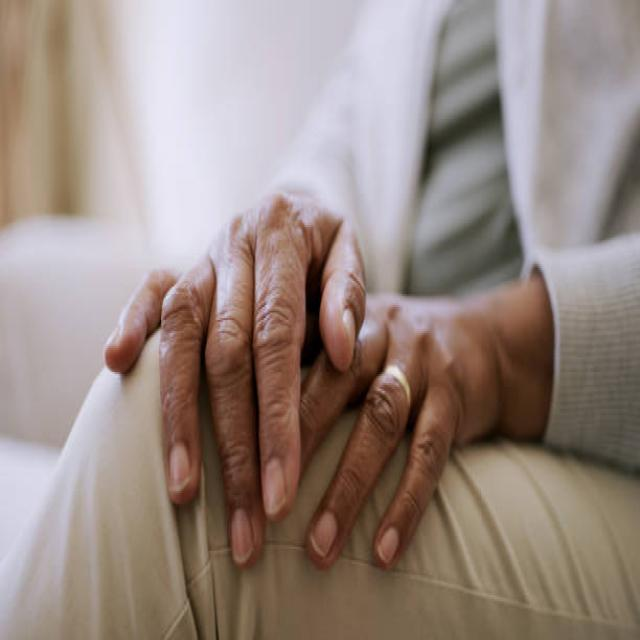Fingernail: (262, 455, 286, 514), (229, 510, 255, 563), (167, 440, 190, 496), (313, 511, 339, 559), (376, 528, 401, 566), (342, 303, 358, 356)
